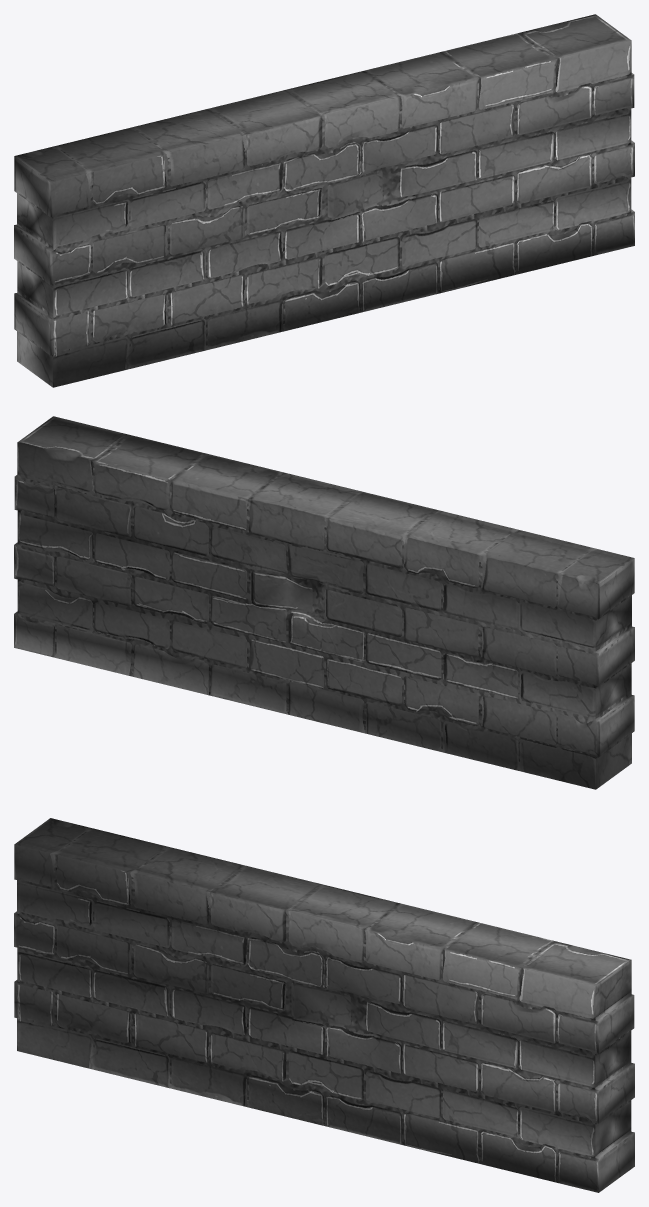
The model's file is simple_bwall.fbx.
The picture shows the model from 3 angles, top to bottom: view 1: azimuth 30°, elevation 25°; view 2: azimuth 150°, elevation 25°; view 3: azimuth 330°, elevation 25°; orthographic projection.
Visible parts, largest first — view 1: simple_bwall; view 2: simple_bwall; view 3: simple_bwall.
Boxes of the visible parts, left/top/right/bottom form: simple_bwall: left=14, top=14, right=634, bottom=387; simple_bwall: left=14, top=416, right=634, bottom=789; simple_bwall: left=14, top=818, right=634, bottom=1192.
Bounding box in the file's own units: 6 × 2.02 × 0.6921.
